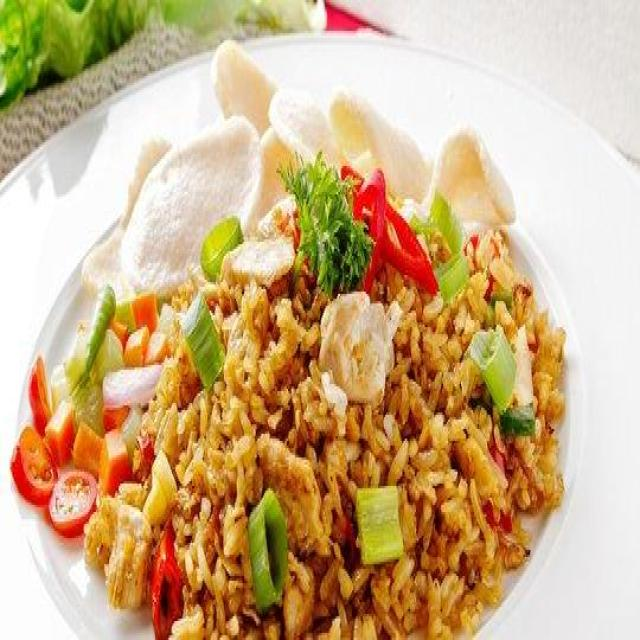Nasi Goreng: (54, 164, 562, 616)
